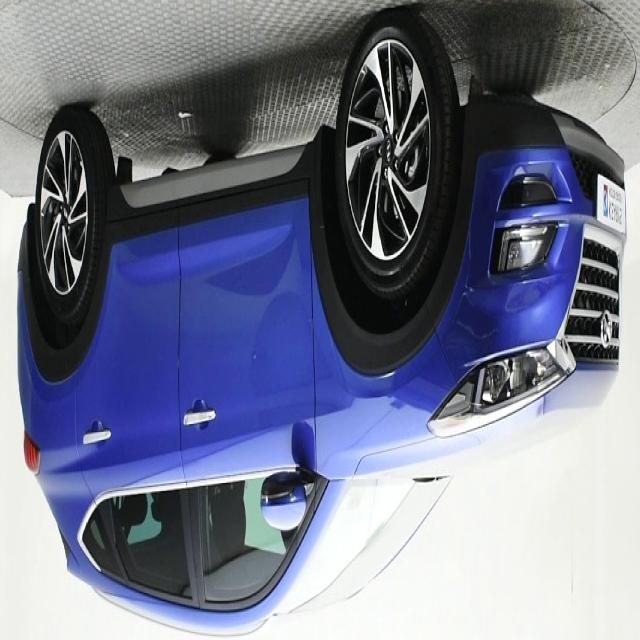blue: (18, 23, 626, 637)
